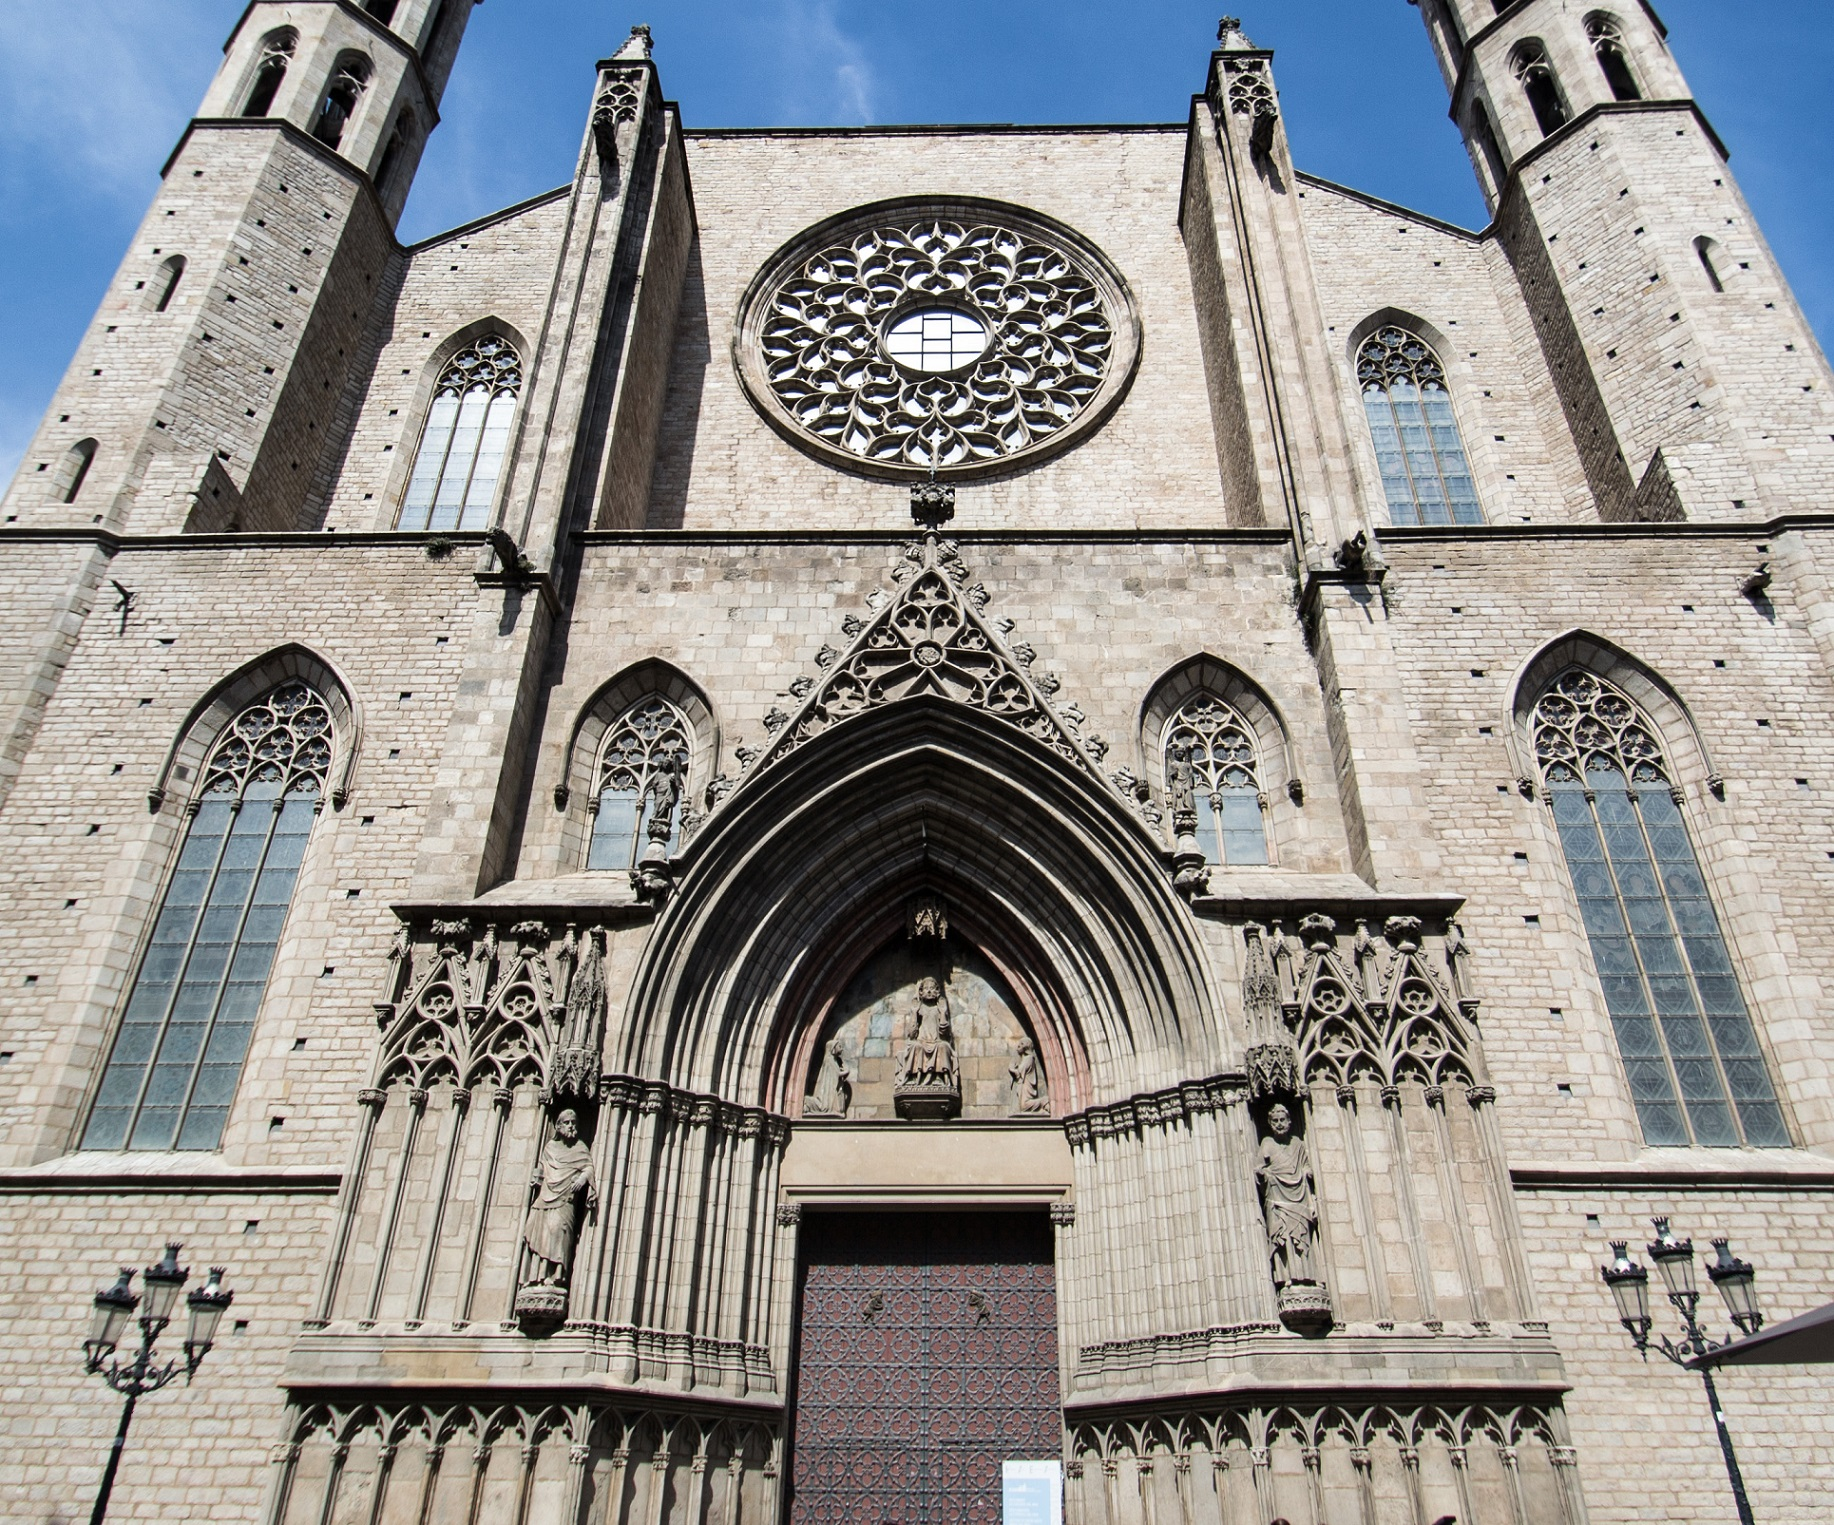arco-apuntado: (615, 689, 1241, 1079), (1503, 625, 1698, 737), (171, 637, 364, 740), (1130, 647, 1295, 740), (567, 654, 727, 745), (1345, 302, 1468, 379), (414, 309, 533, 384)
